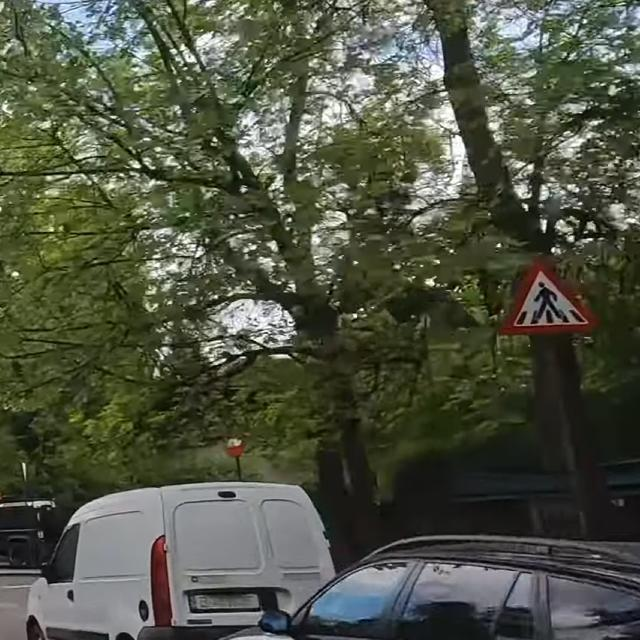warn_crosswalk: (498, 259, 599, 334)
